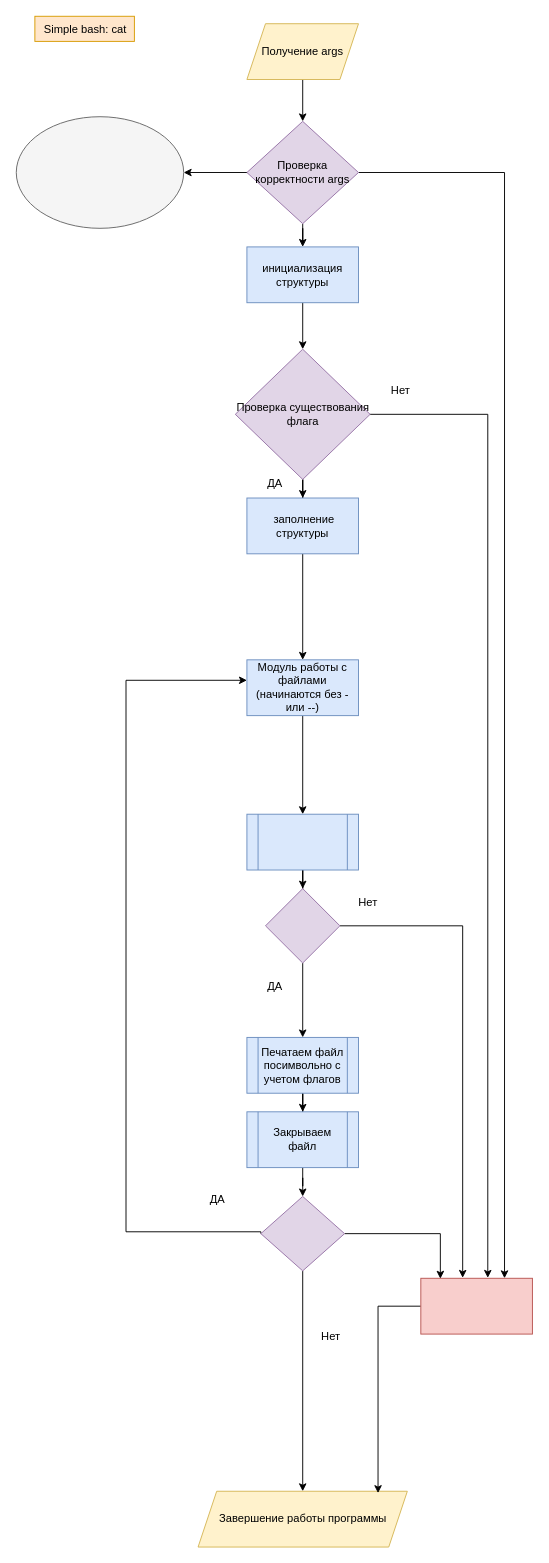
This 549x1563 diagram has some shape labels left out. The shapes that lost their labels are listed below. From the top down, each one's centre as x and y in pixels, then its label:
(x=99, y=172): Проверка корректности заключается в проверке слова cat и колличества аргументов
(x=302, y=841): открыть файл
(x=302, y=925): Открылся файл?
(x=302, y=1233): Есть еще файлы?
(x=476, y=1305): Печать ошибки в stderror
